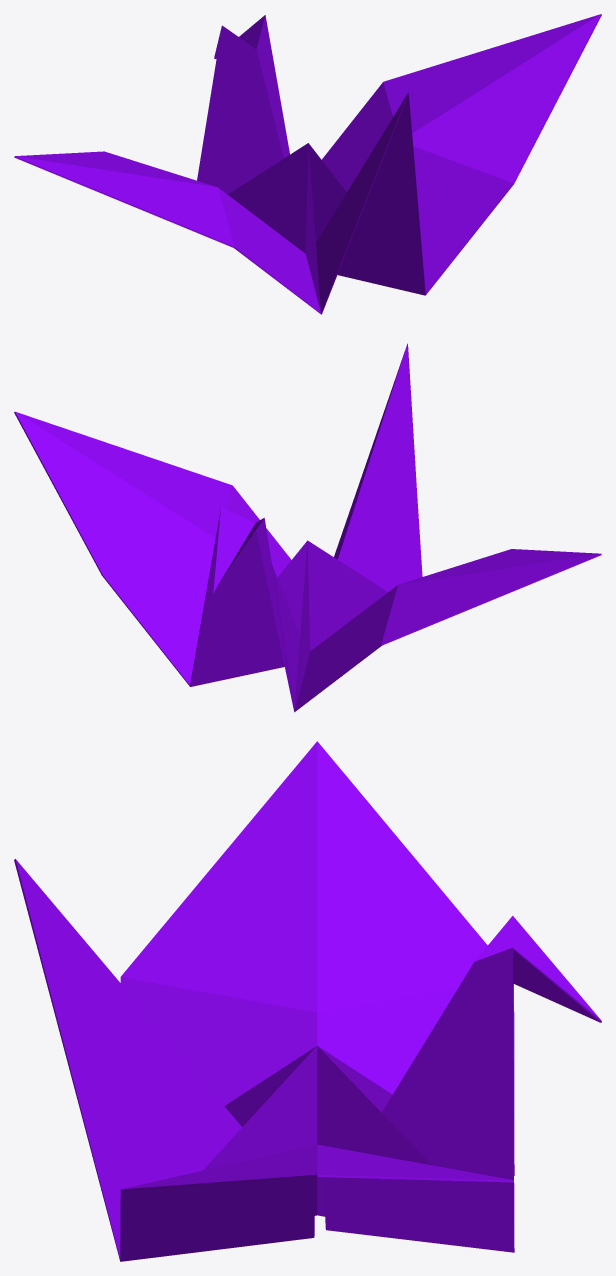
File: Yeh.fbx
3 renders of one model, top to bottom at view 1: azimuth 30°, elevation 25°; view 2: azimuth 150°, elevation 25°; view 3: azimuth 270°, elevation 25°, orthographic. The views are drawn at different scales.
Parts seen in each view (by area): view 1: Plane; view 2: Plane; view 3: Plane.
Boxes of the visible parts, x1,y1,x2,y2 form: Plane: (14, 14, 601, 314); Plane: (14, 343, 601, 712); Plane: (14, 741, 601, 1261).
Size of the model in its own units: 571 by 232 by 328.
